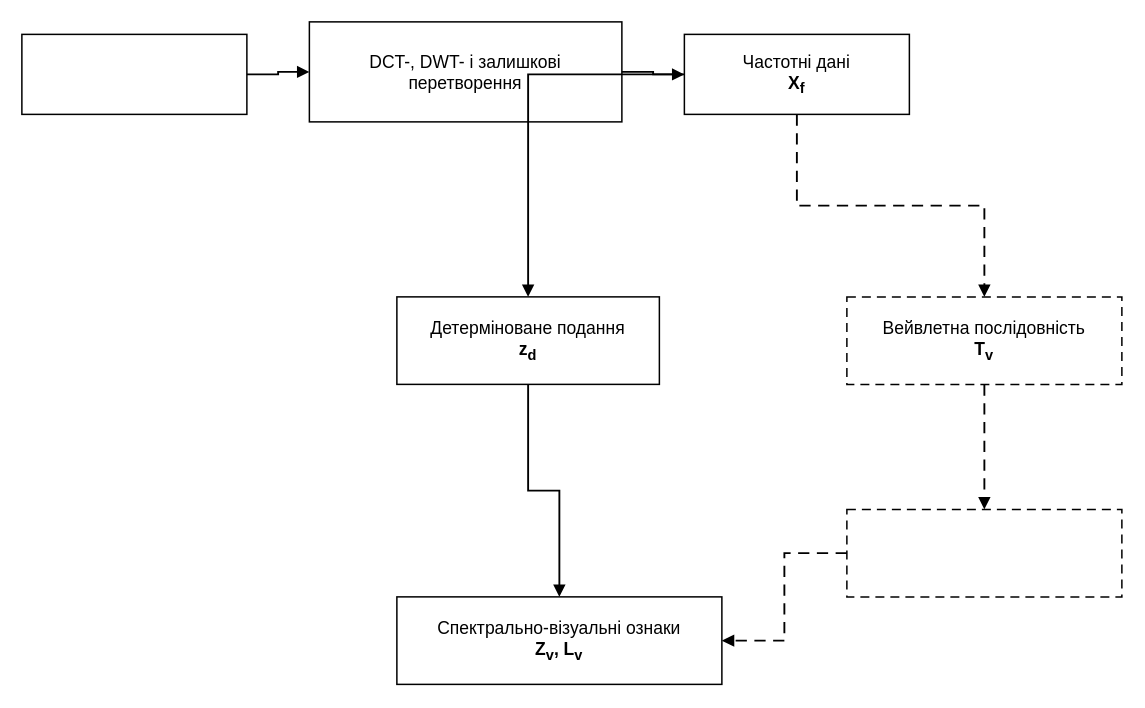
Image size: 1145x708. Some labels were removed from this diagram. Each missing label, with the box of its shape:
Зорові дані X v: (20, 33, 247, 115)
Навчуване подання z n: (846, 508, 1122, 597)
